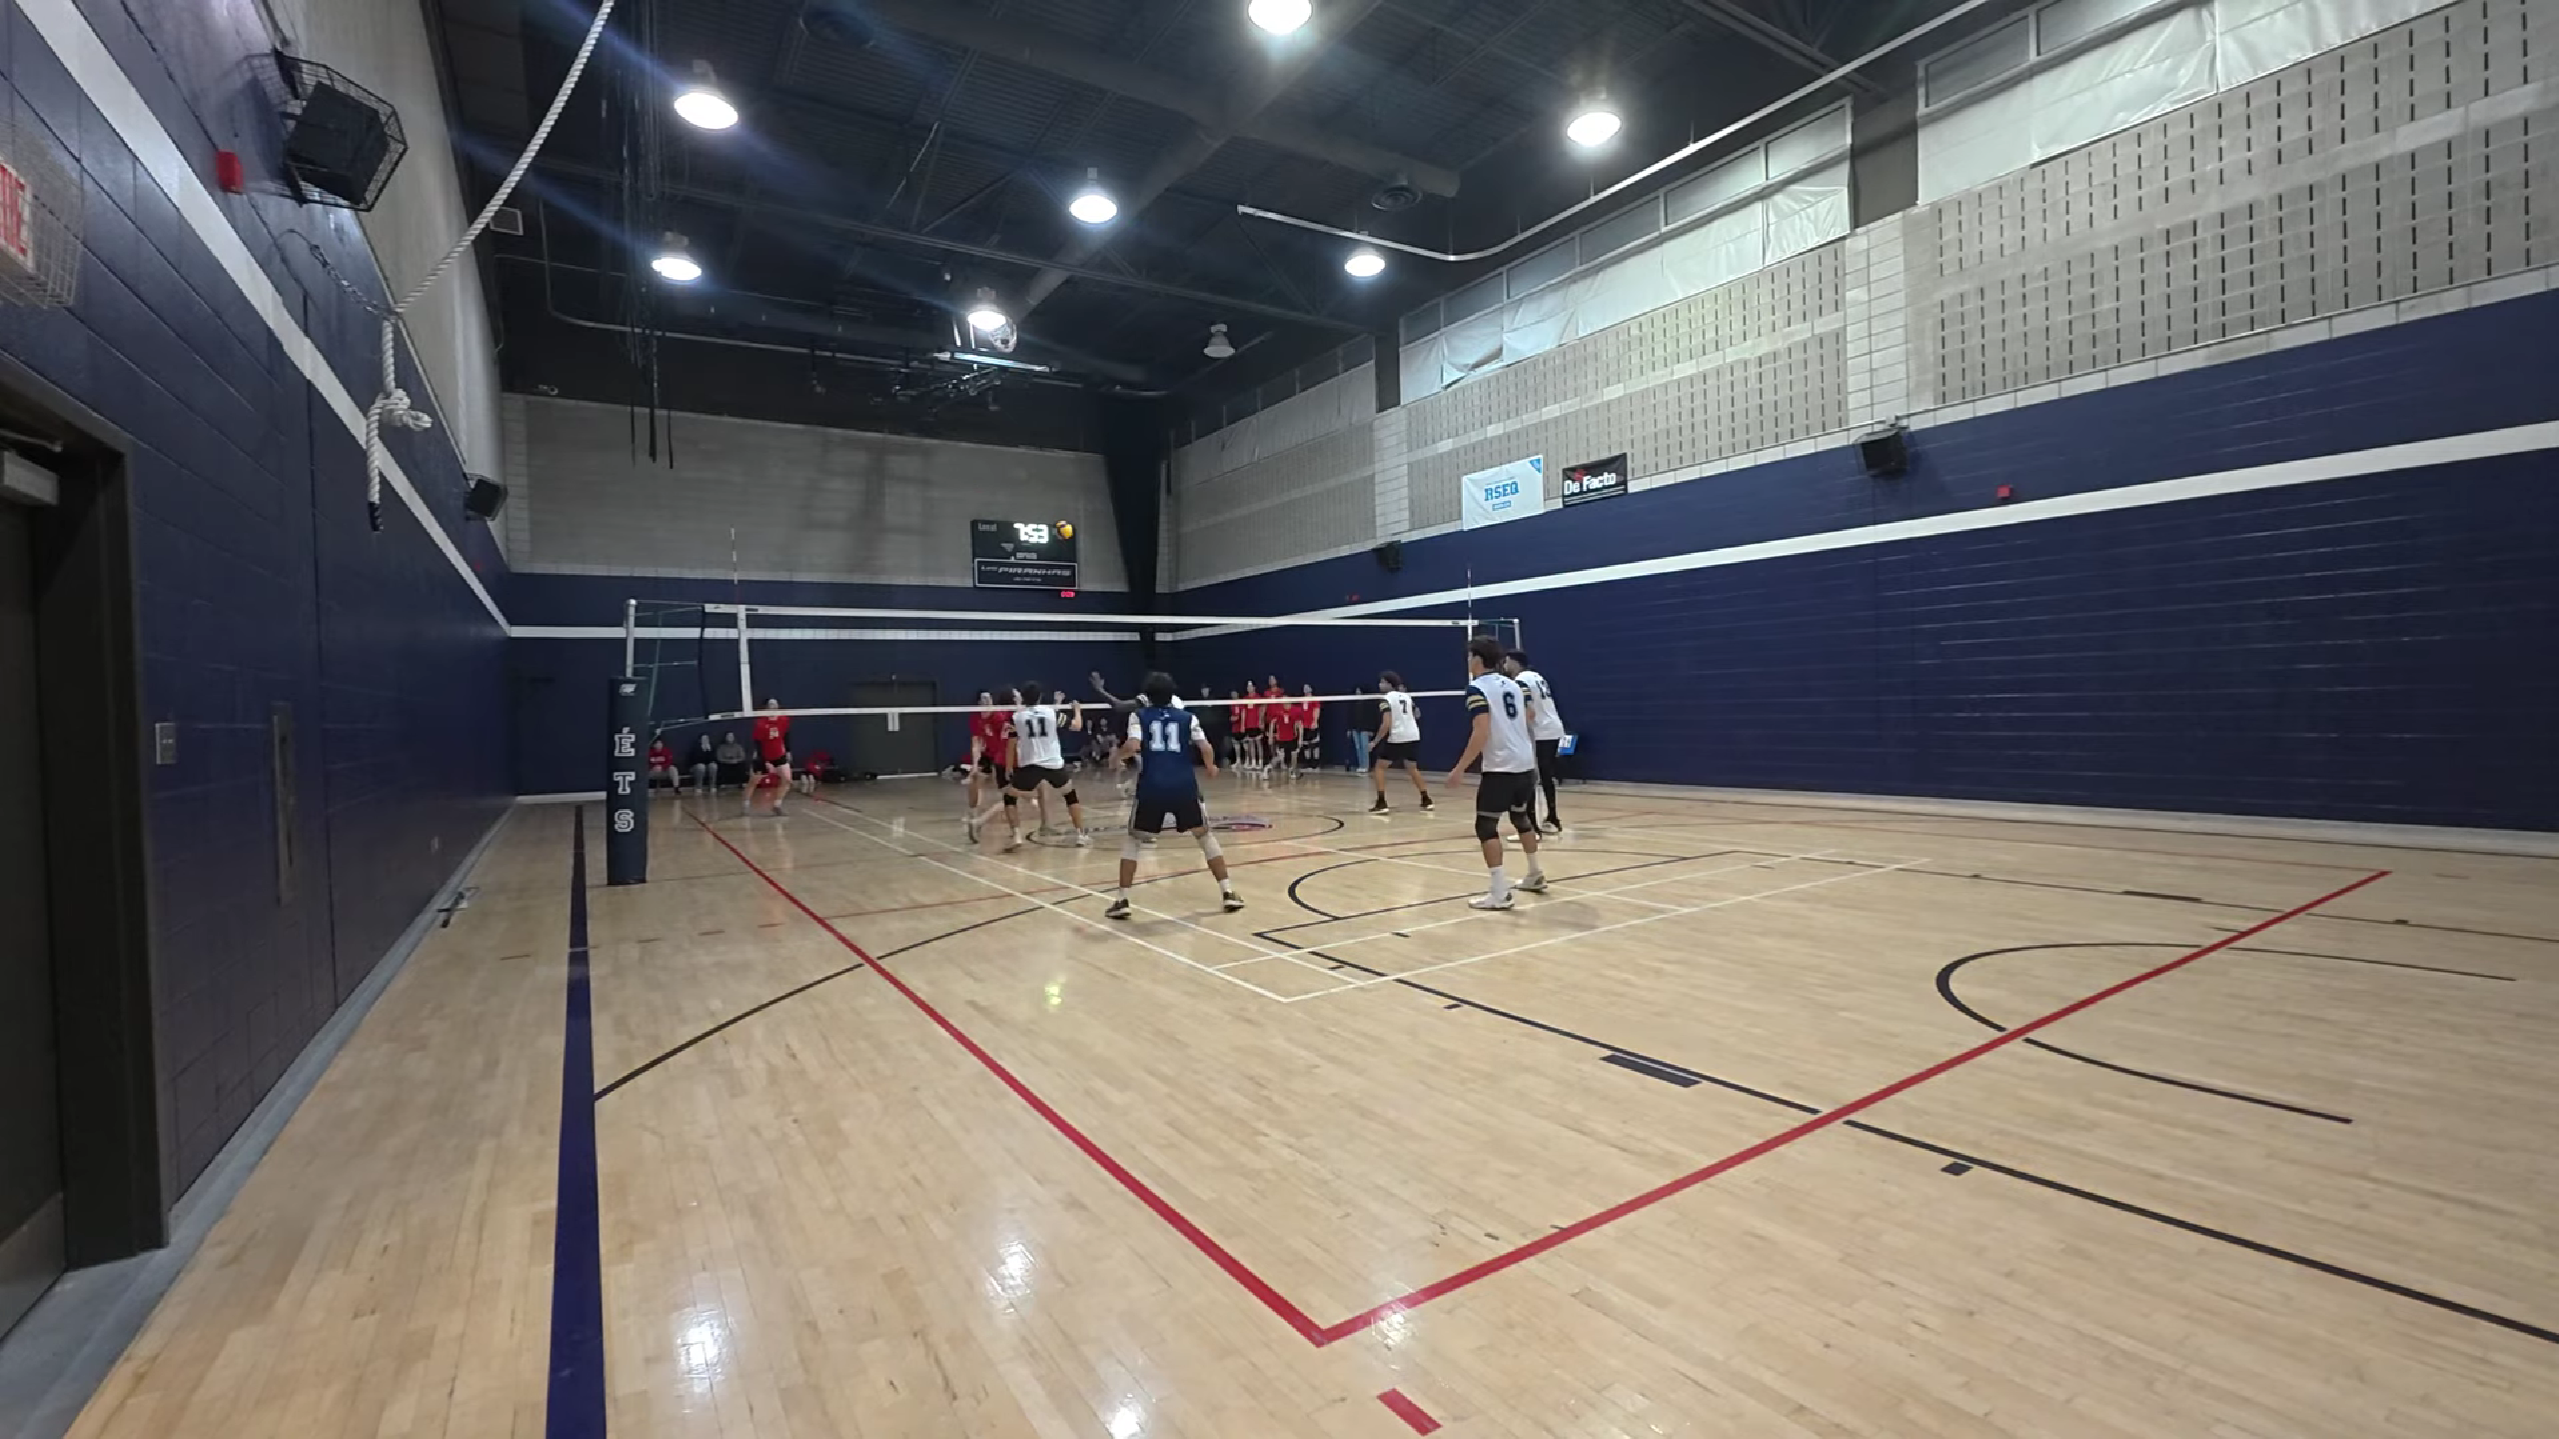Ball: (1051, 518, 1076, 541)
